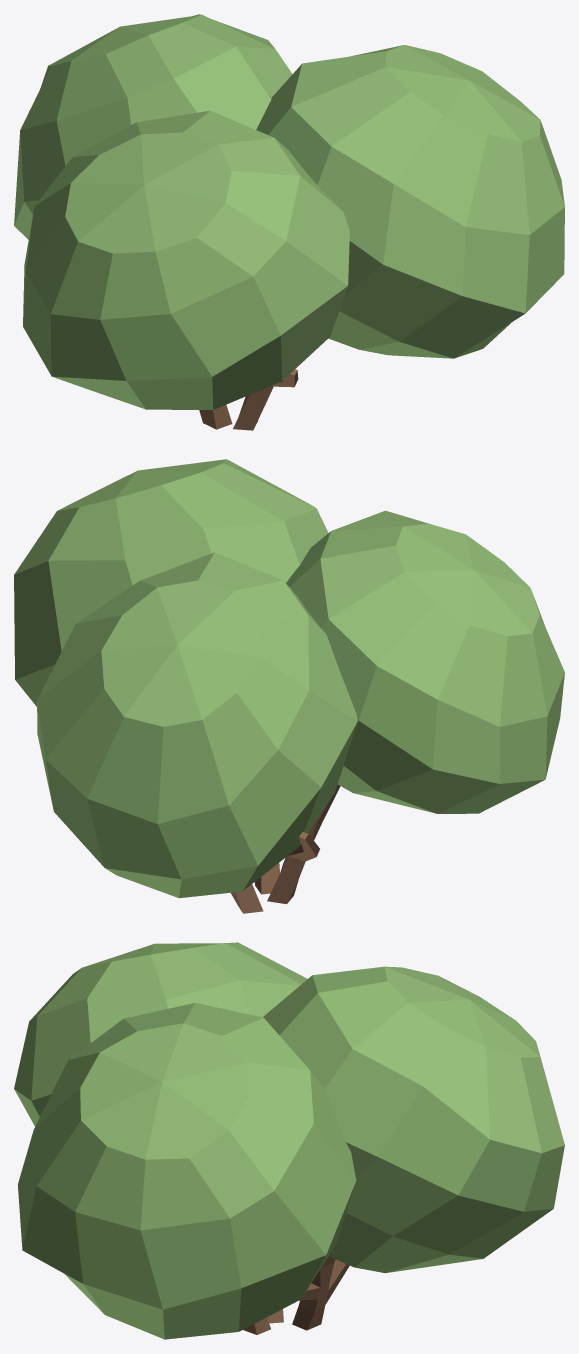
File: Bushes_bush_01.fbx
The picture shows the model from 3 angles, top to bottom: view 1: azimuth 30°, elevation 25°; view 2: azimuth 150°, elevation 25°; view 3: azimuth 270°, elevation 25°; orthographic projection.
Parts seen in each view (by area): view 1: Bushes_bush_01; view 2: Bushes_bush_01; view 3: Bushes_bush_01.
Part boxes in pixels (left/top/right/bottom): Bushes_bush_01: left=14, top=14, right=564, bottom=430; Bushes_bush_01: left=14, top=459, right=564, bottom=913; Bushes_bush_01: left=14, top=942, right=564, bottom=1339.
Size of the model in its own units: 52.08 by 36.02 by 50.4.
